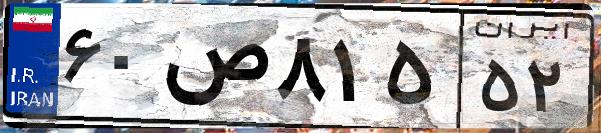0: (110, 28, 158, 98)
1: (330, 28, 385, 110)
2: (525, 38, 570, 115)
5: (385, 28, 445, 110), (475, 38, 525, 113)
6: (57, 26, 110, 100)
8: (270, 28, 330, 110)
ص: (158, 20, 270, 120)
